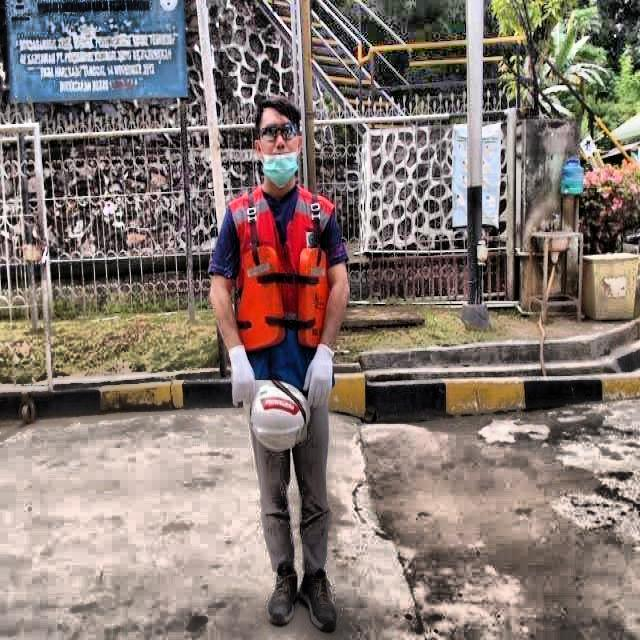safety_helmet: (248, 376, 310, 452)
safety_jacket: (230, 185, 337, 386)
